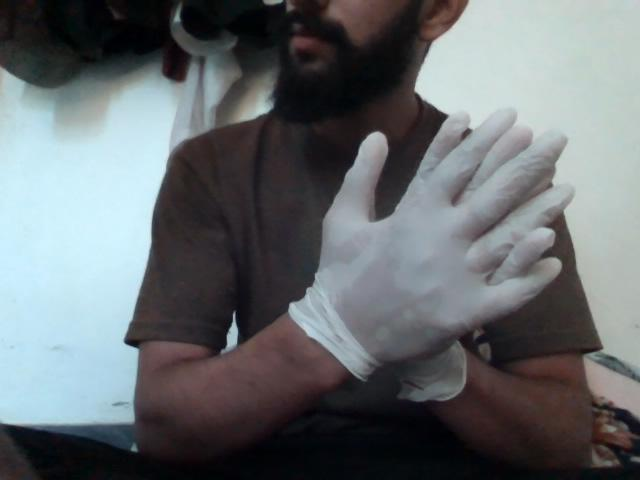gloves: (291, 107, 607, 396)
